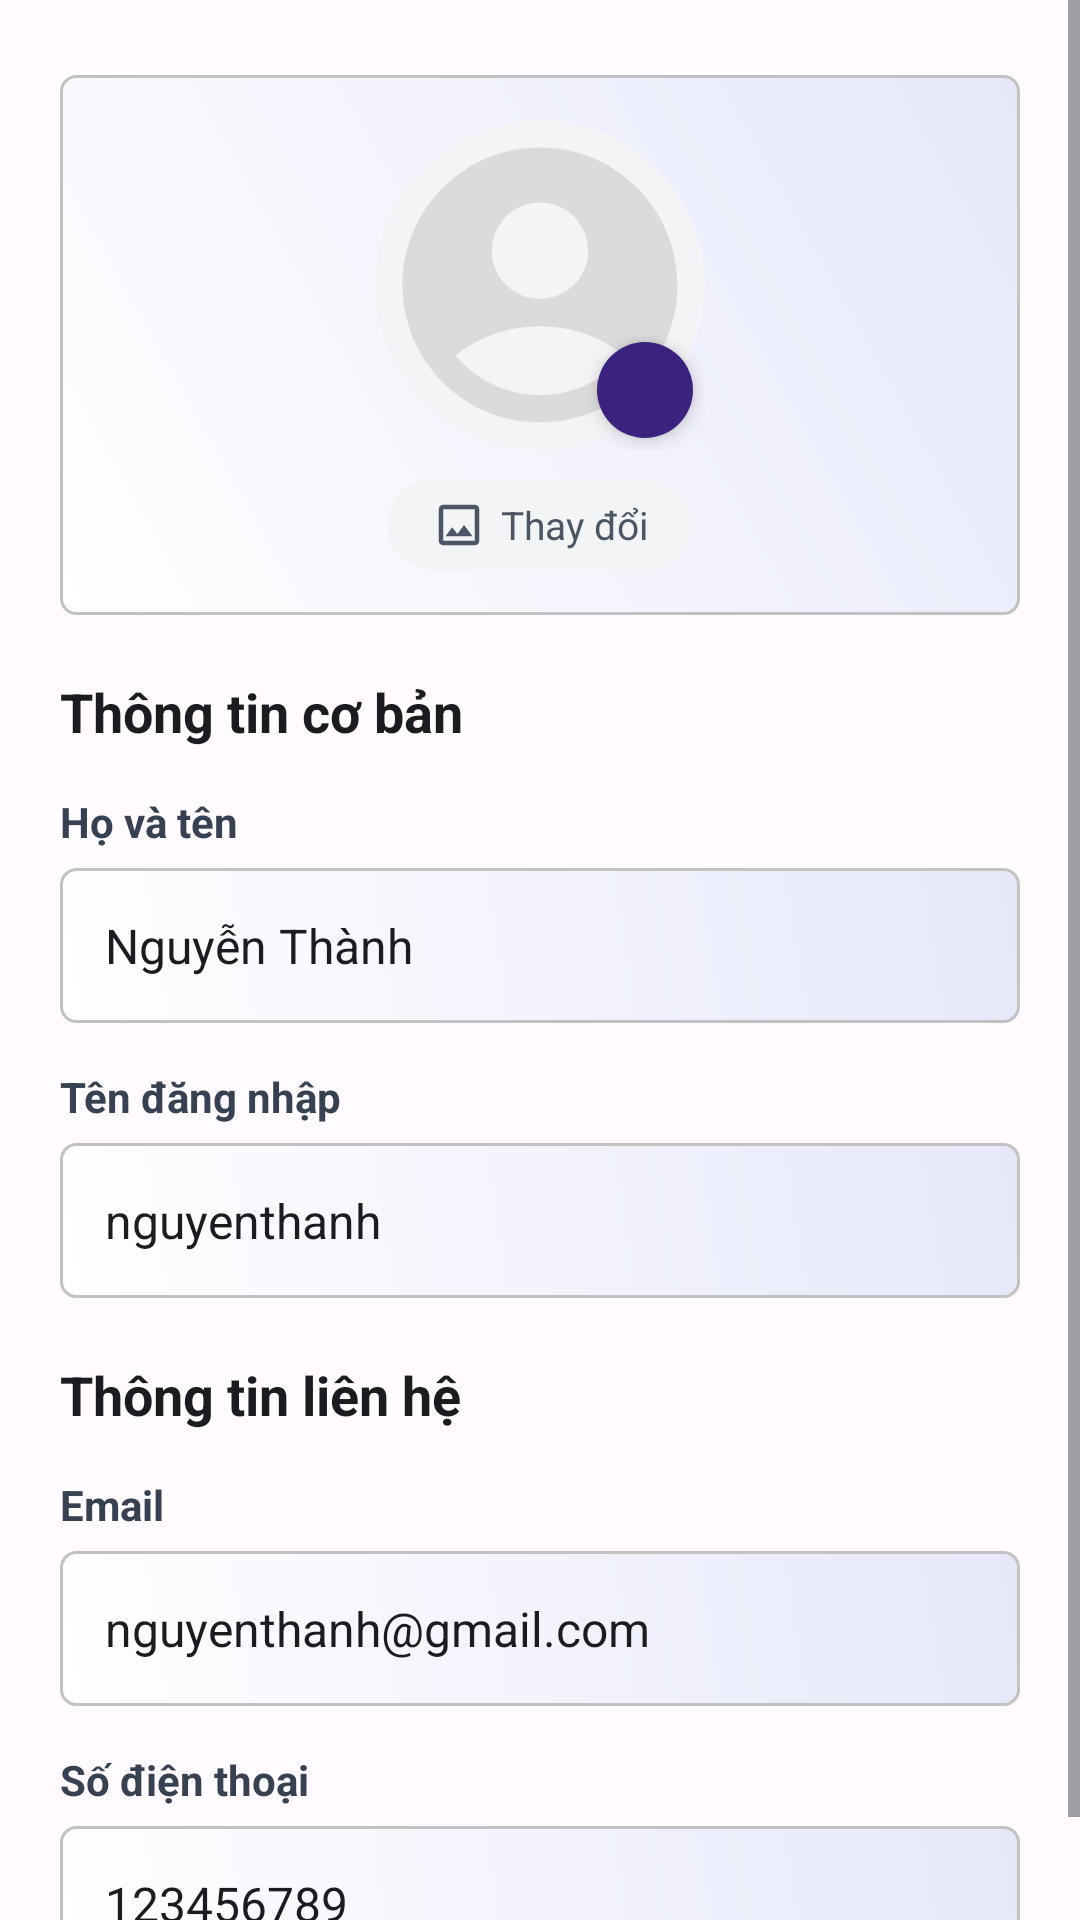

Icon click points for this 1080px x 1920px phone screenshot, format point (x, y):
account circle: point (548, 294)
